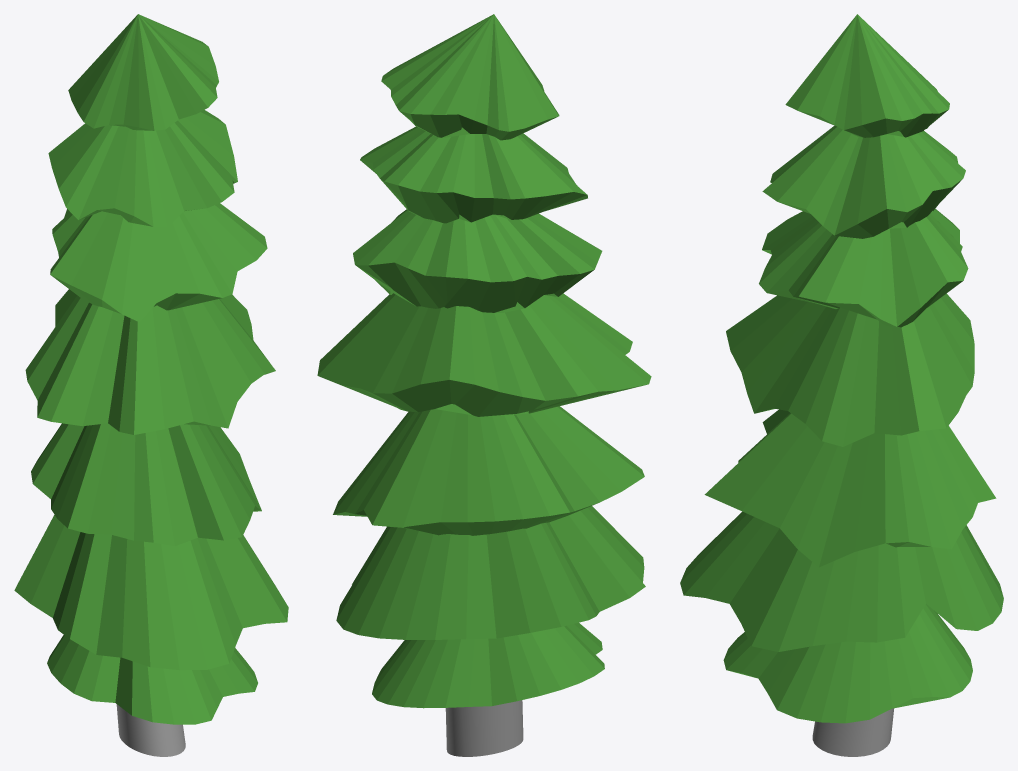
Rendered from tree_02.fbx.
The picture shows the model from 3 angles, left to right: view 1: azimuth 30°, elevation 25°; view 2: azimuth 150°, elevation 25°; view 3: azimuth 270°, elevation 25°; orthographic projection. The views are drawn at different scales.
Parts seen in each view (by area): view 1: tree_02; view 2: tree_02; view 3: tree_02.
Part boxes in pixels (x1=…): tree_02: x1=14, y1=14, x2=288, y2=756; tree_02: x1=317, y1=14, x2=651, y2=756; tree_02: x1=680, y1=14, x2=1003, y2=756.
Size of the model in its own units: 264 by 691 by 280.
